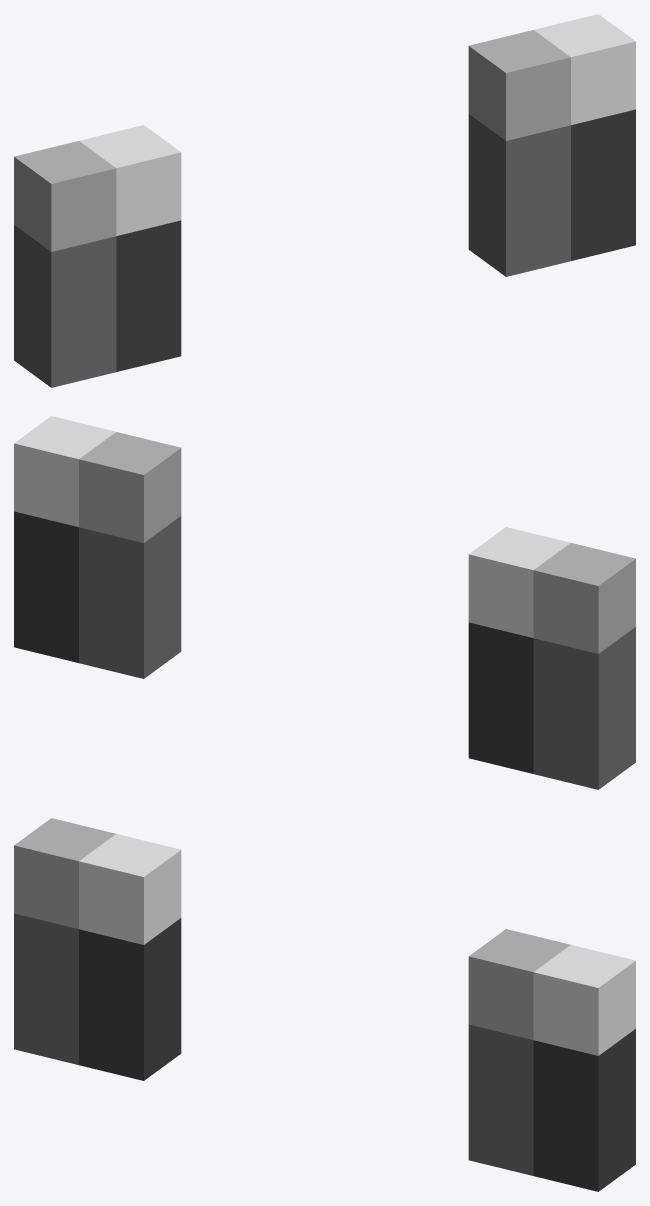
File: seal2-7.obj
The picture shows the model from 3 angles, top to bottom: view 1: azimuth 30°, elevation 25°; view 2: azimuth 150°, elevation 25°; view 3: azimuth 330°, elevation 25°; orthographic projection.
Size of the model in its own units: 0.9 by 0.3 by 0.1.
1 material, 1 textured.
